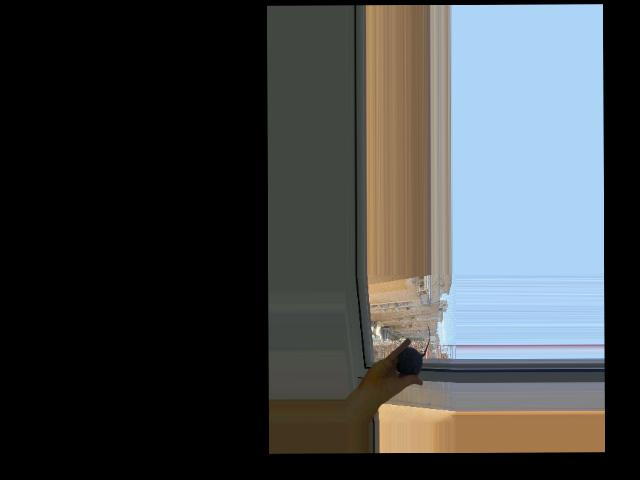beet: (396, 324, 430, 375)
